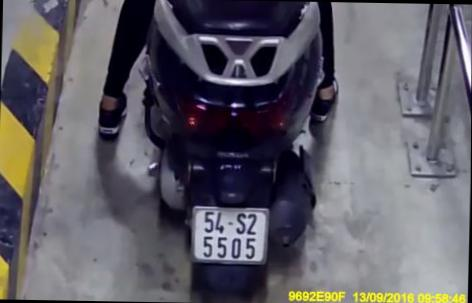LP: (189, 204, 271, 266)
